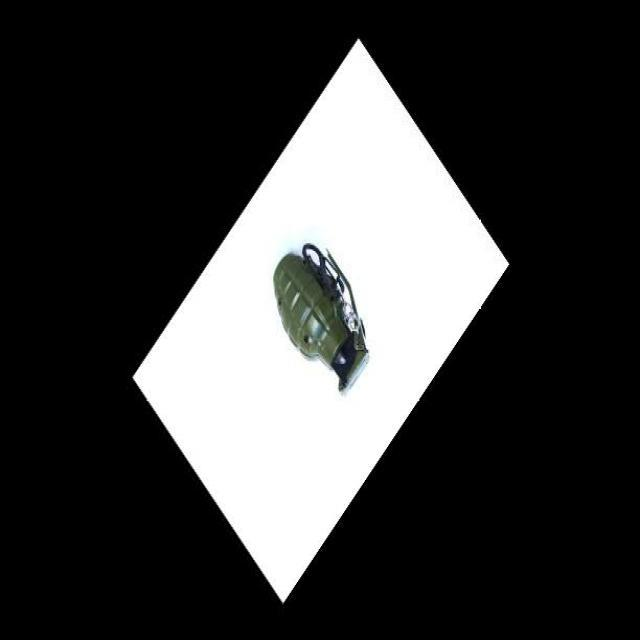grenade: (258, 240, 372, 402)
